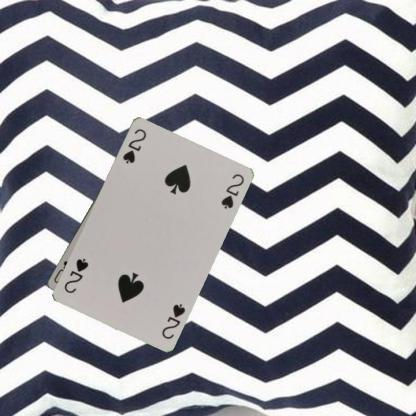2s: (120, 125, 148, 165), (159, 300, 187, 340)
